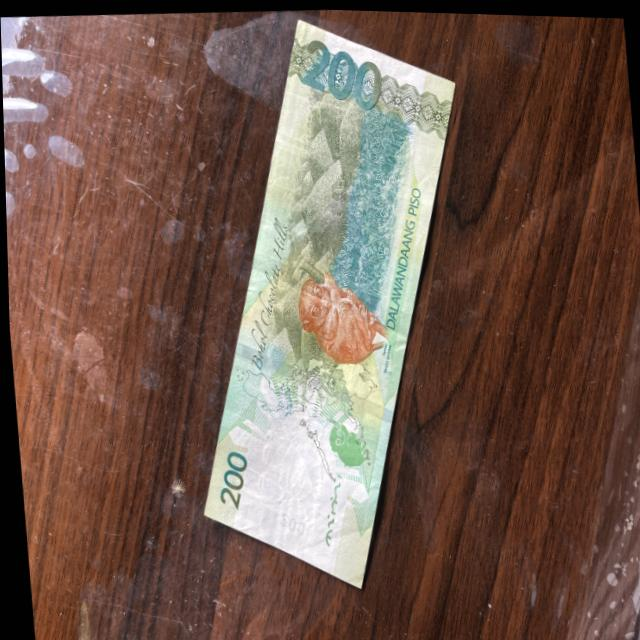200_tarsier: (271, 251, 419, 373)
200_tarsier_watermark: (318, 410, 377, 480)
value_watermark: (271, 506, 309, 539)
watermark: (232, 435, 336, 545)
